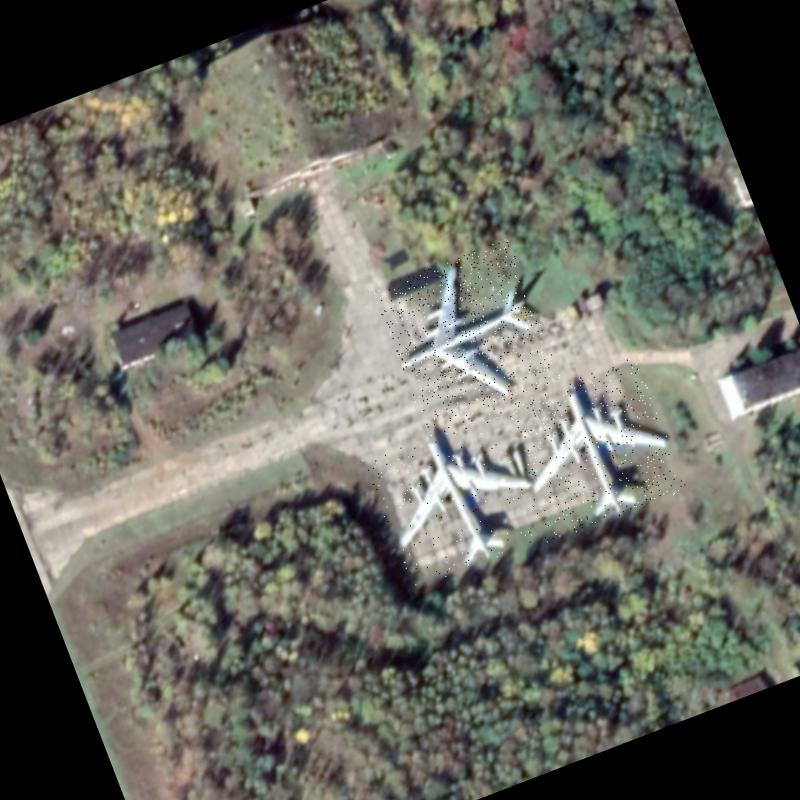A17: (360, 400, 556, 590), (371, 237, 562, 430), (496, 356, 687, 543)
